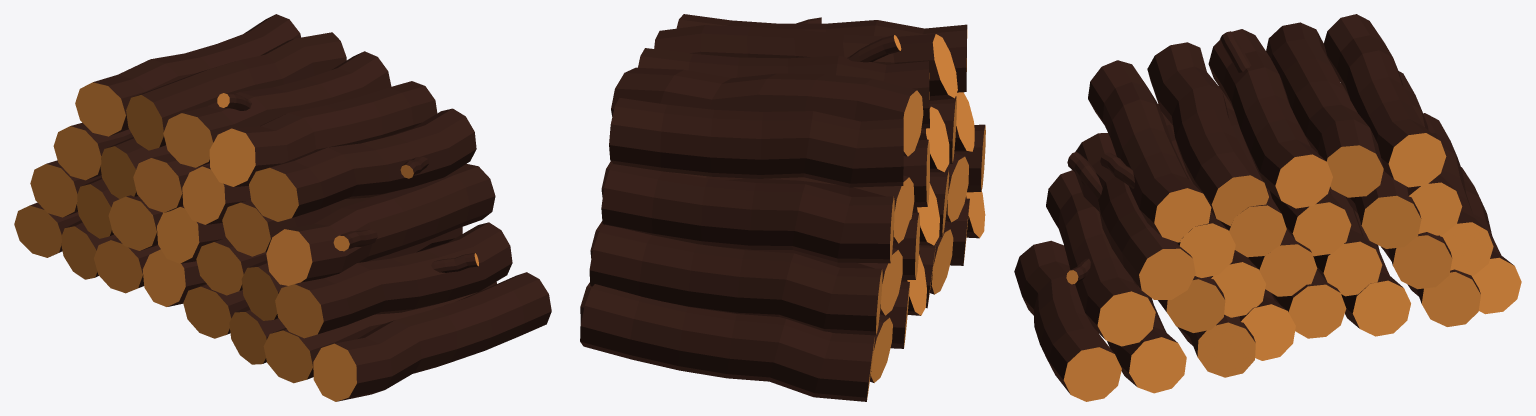
Rendered from Woods.obj.
3 views of the same model, side by side, from view 1: azimuth 30°, elevation 25°; view 2: azimuth 150°, elevation 25°; view 3: azimuth 270°, elevation 25° (orthographic). The views are drawn at different scales.
Parts seen in each view (by area): view 1: group538861481, group355967482, group563753358, group1106180143, group1848351147, group1972417732, group1139732488, group312684487, group66307505, group193797384, group664606928, group889430833 (+17 smaller); view 2: group312684487, group664606928, group216179807, group1057746760, group1972417732, group1848351147, group1139732488, group1106180143, group1195377041, group616709193, group889430833, group290488084 (+15 smaller); view 3: group1848351147, group1106180143, group1139732488, group1972417732, group312684487, group538861481, group355967482, group563753358, group1195377041, group1057746760, group66307505, group726707995 (+17 smaller).
Boxes of the visible parts, <box> form: group538861481: <box>313,272,551,401</box>; group355967482: <box>275,222,512,338</box>; group563753358: <box>266,164,495,285</box>; group1106180143: <box>249,108,476,221</box>; group1848351147: <box>209,81,437,186</box>; group1972417732: <box>126,32,346,150</box>; group1139732488: <box>163,51,391,167</box>; group312684487: <box>75,14,301,136</box>; group66307505: <box>263,281,496,383</box>; group193797384: <box>222,194,384,256</box>; group664606928: <box>53,122,133,180</box>; group889430833: <box>133,153,209,212</box>; group312684487: <box>609,98,903,187</box>; group664606928: <box>601,164,894,263</box>; group216179807: <box>580,284,874,401</box>; group1057746760: <box>589,224,882,335</box>; group1972417732: <box>611,67,923,156</box>; group1848351147: <box>654,25,957,100</box>; group1139732488: <box>638,48,929,128</box>; group1106180143: <box>676,14,967,92</box>; group1195377041: <box>601,161,914,243</box>; group616709193: <box>590,221,902,315</box>; group889430833: <box>903,139,929,207</box>; group290488084: <box>918,106,949,172</box>; group1848351147: <box>1147,42,1268,226</box>; group1106180143: <box>1088,60,1211,242</box>; group1139732488: <box>1208,29,1332,208</box>; group1972417732: <box>1266,22,1383,197</box>; group312684487: <box>1324,14,1446,187</box>; group538861481: <box>1014,240,1121,401</box>; group355967482: <box>1046,170,1155,346</box>; group563753358: <box>1075,133,1195,299</box>; group1195377041: <box>1341,83,1421,248</box>; group1057746760: <box>1423,113,1493,275</box>; group66307505: <box>1107,285,1186,393</box>; group726707995: <box>1313,187,1382,296</box>.
Size of the model in its own units: 0.9356 by 0.6571 by 1.17.
